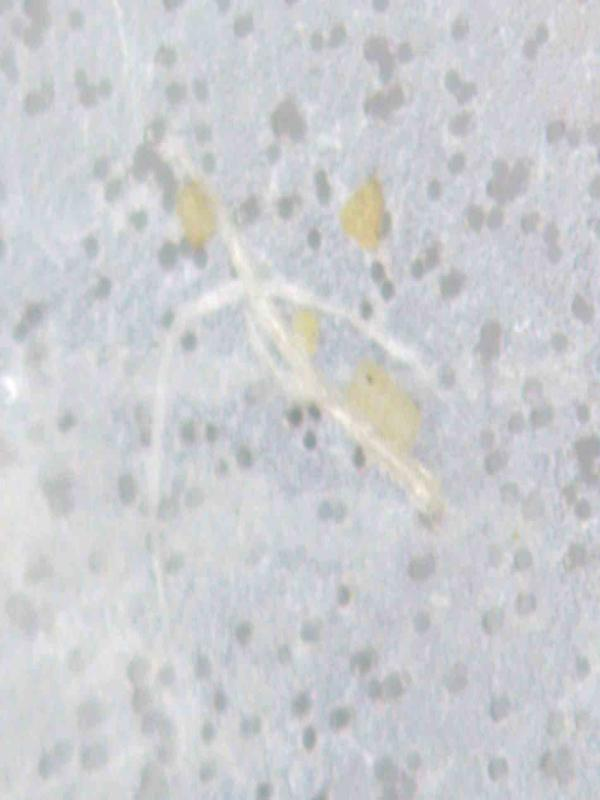microplastic: (1, 1, 598, 797), (128, 132, 450, 531)
